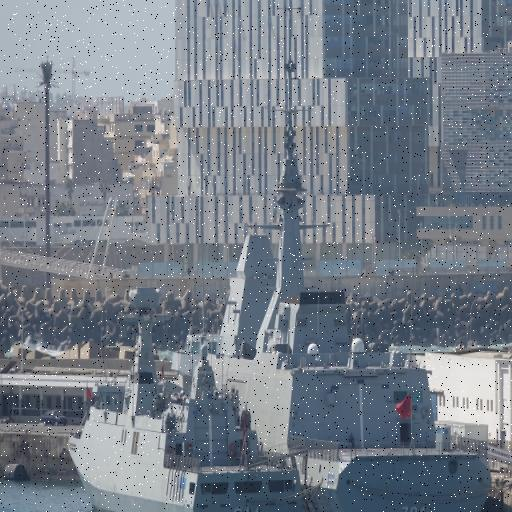Fragata: (153, 112, 505, 512), (45, 293, 312, 512)
